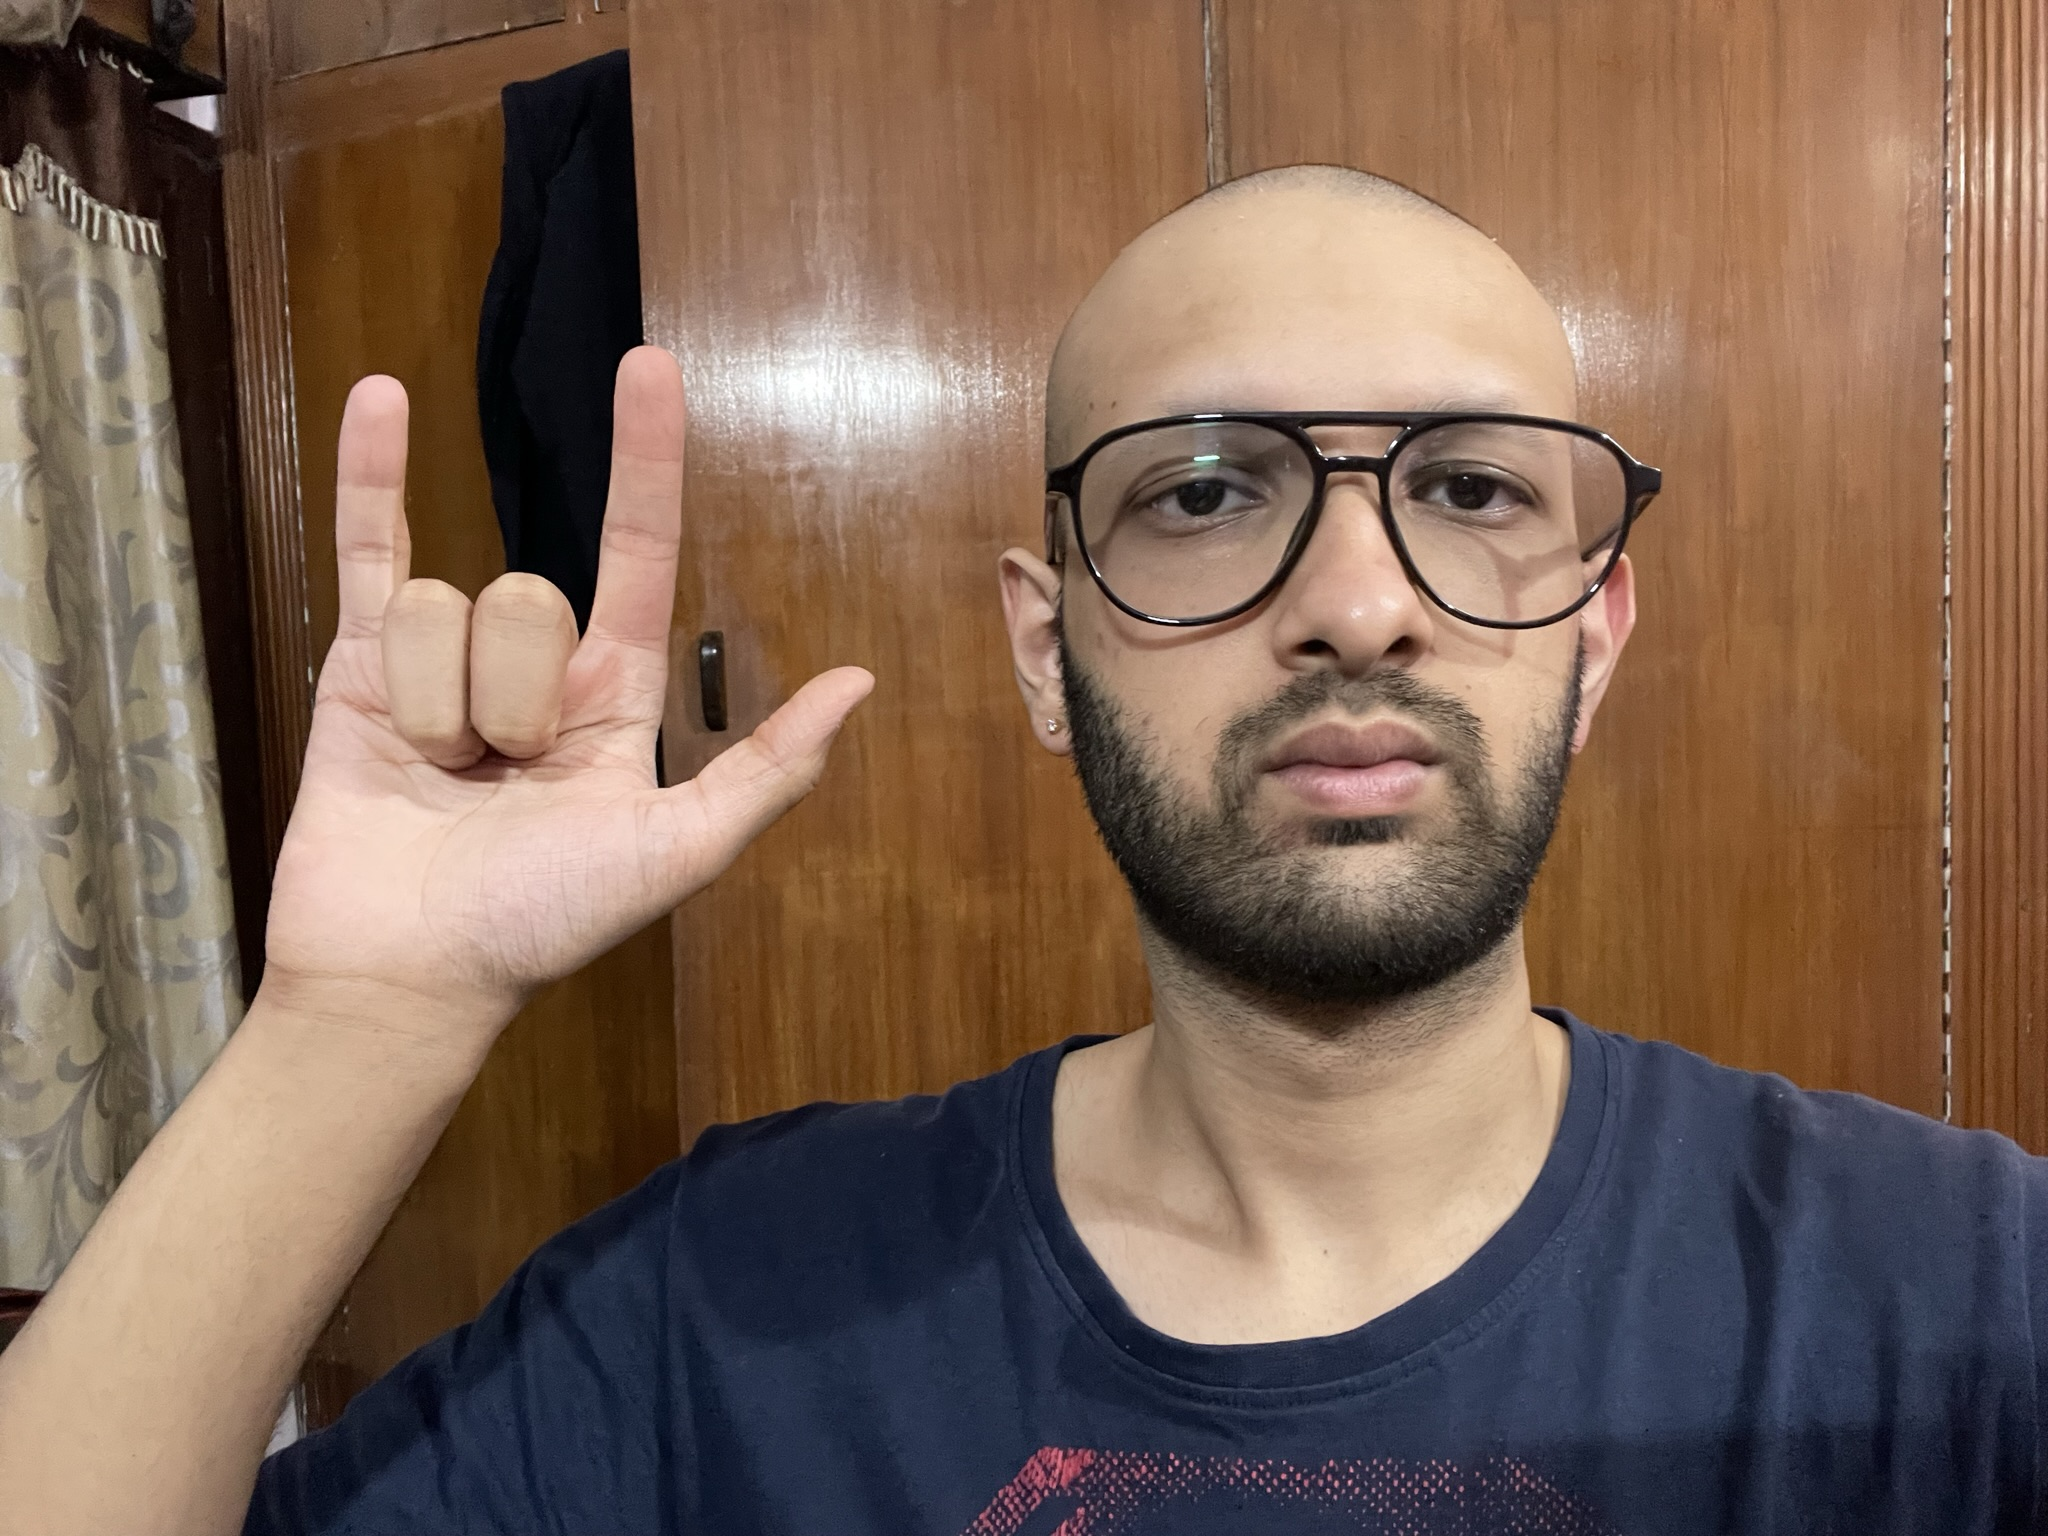I Love You: (258, 345, 885, 1020)
